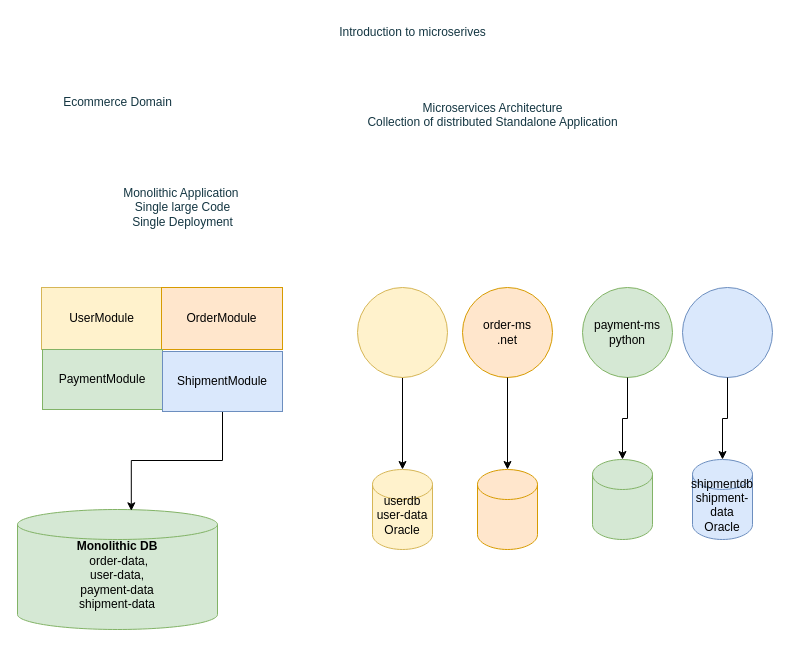
This 790x647 diagram has some shape labels left out. Each missing label, with the box of its shape:
orderdb order-data sqlserver: (476, 468, 538, 550)
paymentdb payment-data Postgrse: (592, 458, 652, 540)
shipment-ms java: (682, 286, 772, 378)
user-ms java: (356, 286, 448, 378)
